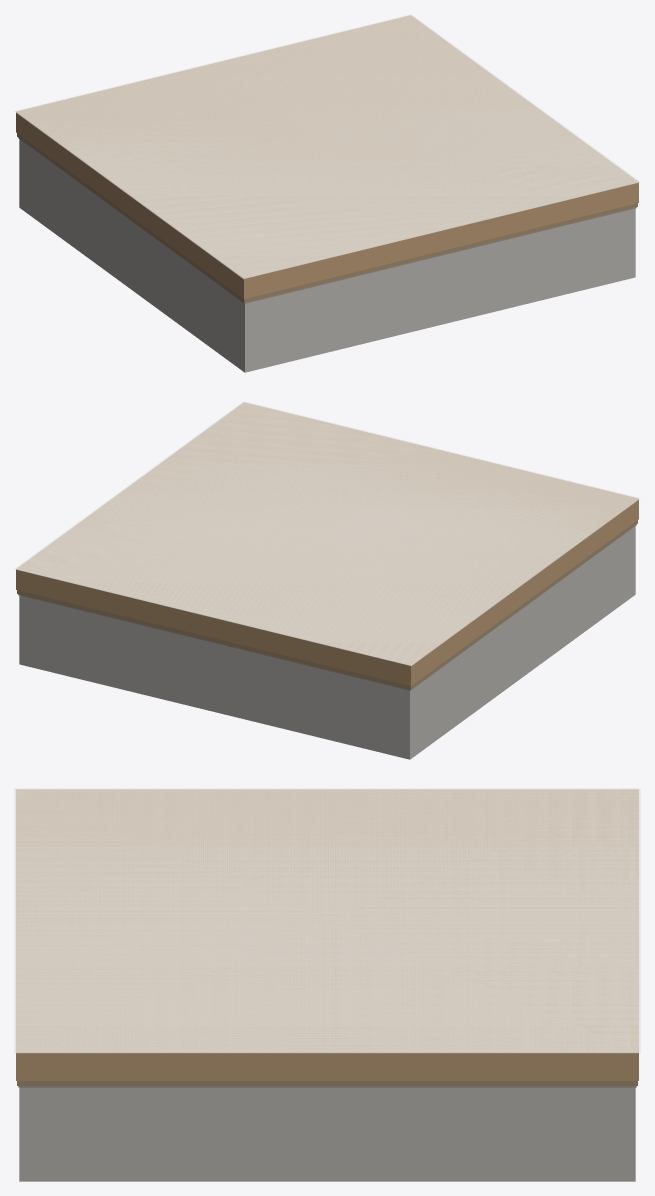
Rendered from parquet.glb.
The picture shows the model from 3 angles, top to bottom: view 1: azimuth 30°, elevation 25°; view 2: azimuth 150°, elevation 25°; view 3: azimuth 270°, elevation 25°; orthographic projection. The views are drawn at different scales.
Parts seen in each view (by area): view 1: body, topcoat-2, topcoat-1, substrate, primer, substrate-prep; view 2: body, topcoat-2, topcoat-1, substrate, primer, substrate-prep; view 3: body, topcoat-2, topcoat-1, substrate, primer, substrate-prep.
Boxes of the visible parts, x1,y1,x2,y2 form: body: (16,15,638,298); topcoat-2: (14,14,640,278); topcoat-1: (16,15,638,278); substrate: (19,139,635,372); primer: (17,133,637,302); substrate-prep: (18,138,636,303); body: (16,402,638,685); topcoat-2: (14,401,640,665); topcoat-1: (16,402,638,665); substrate: (19,526,635,759); primer: (17,520,637,689); substrate-prep: (18,525,636,690); body: (16,789,638,1080); topcoat-2: (14,788,640,1053); topcoat-1: (15,789,639,1052); substrate: (19,1087,635,1181); primer: (17,1081,637,1085); substrate-prep: (18,1086,636,1087).
Size of the model in its own units: 0.3 by 0.0691 by 0.3.
